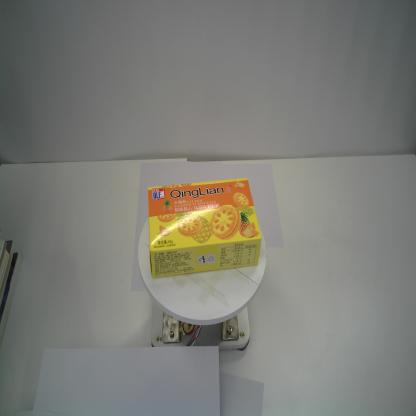Dessert: (146, 176, 262, 279)
